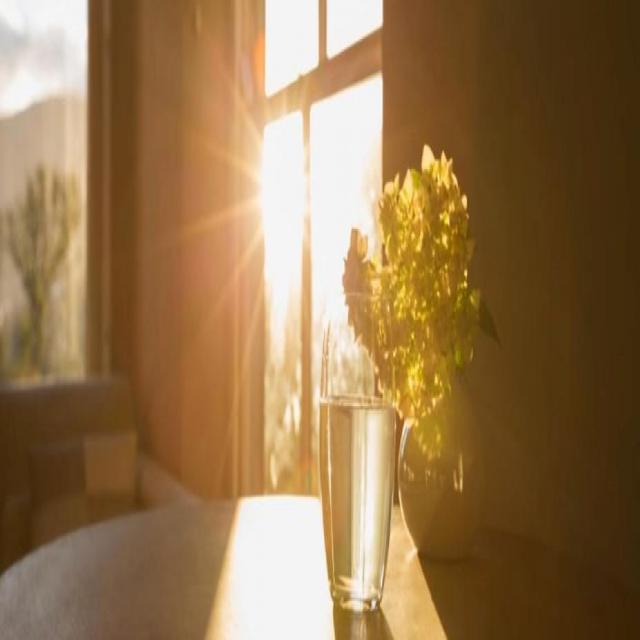non-organic waste: (318, 288, 396, 628)
